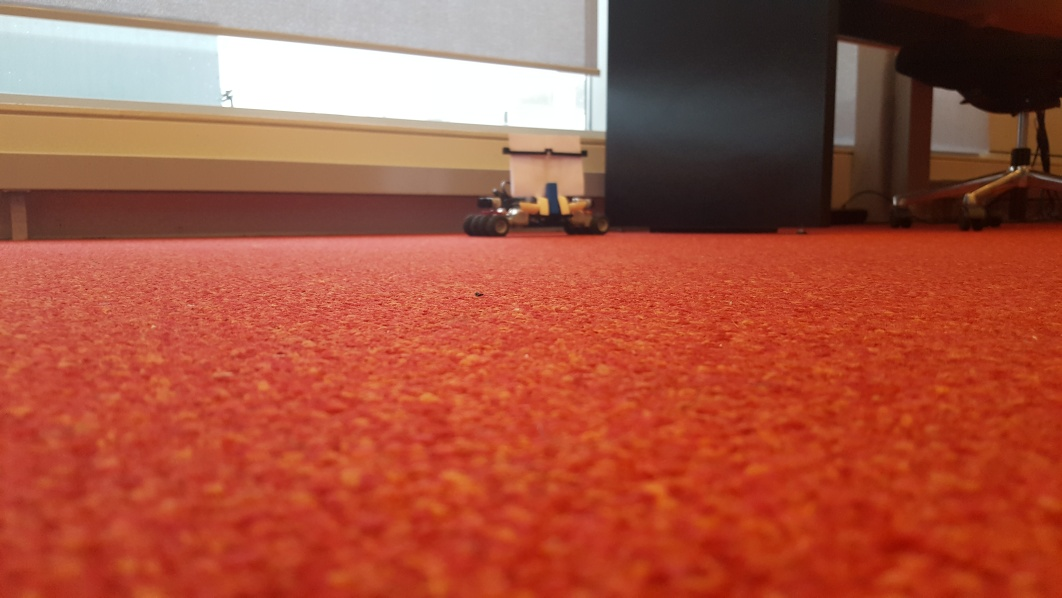car: (461, 130, 613, 235)
